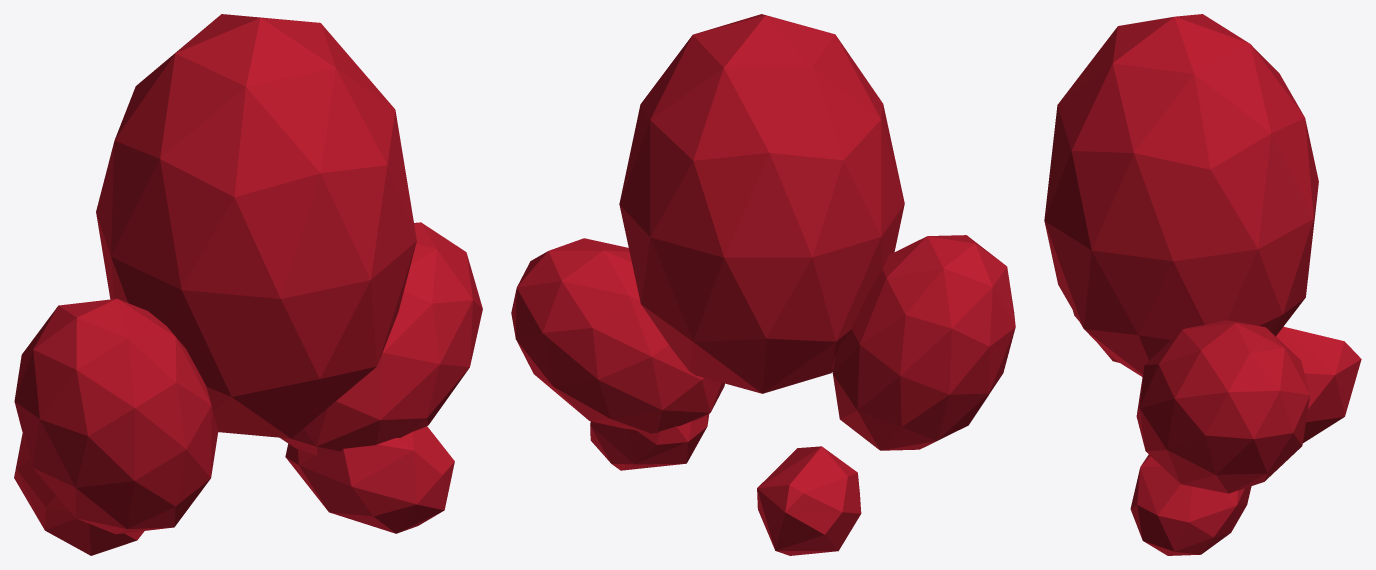
The model's file is tree-dead-leaves-10-040.glb.
3 views of the same model, side by side, from view 1: azimuth 30°, elevation 25°; view 2: azimuth 150°, elevation 25°; view 3: azimuth 270°, elevation 25° (orthographic). The views are drawn at different scales.
Visible parts, largest first — view 1: TREE 10.007_497; view 2: TREE 10.007_497; view 3: TREE 10.007_497.
Boxes of the visible parts, <box> form: TREE 10.007_497: <box>14,14,482,555</box>; TREE 10.007_497: <box>511,14,1015,555</box>; TREE 10.007_497: <box>1044,14,1361,555</box>.
Bounding box in the file's own units: 1.19 × 1.25 × 0.7525.
